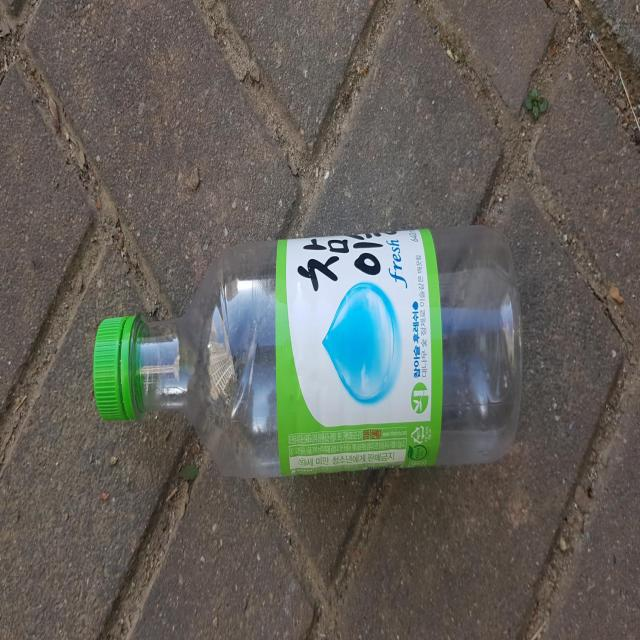plastic: (93, 225, 523, 477)
